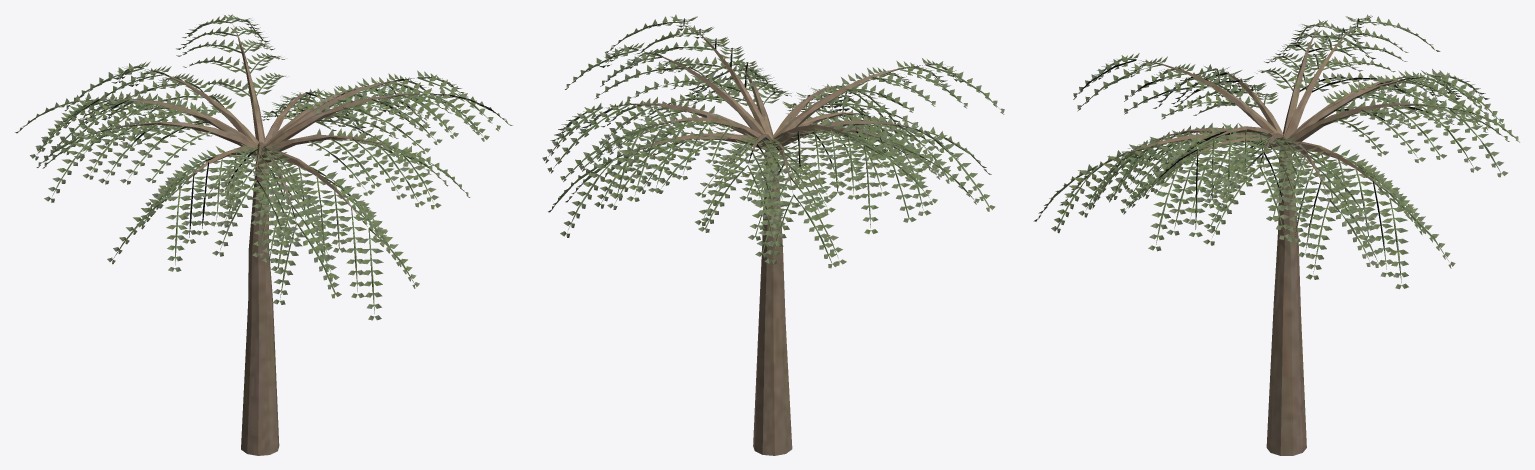
File: dicroidium.glb
The picture shows the model from 3 angles, left to right: view 1: azimuth 30°, elevation 25°; view 2: azimuth 150°, elevation 25°; view 3: azimuth 270°, elevation 25°; orthographic projection. The views are drawn at different scales.
Parts seen in each view (by area): view 1: dicroidium_medio; view 2: dicroidium_medio; view 3: dicroidium_medio.
Part boxes in pixels (x1,y1,x2,y2): dicroidium_medio: (15,14,512,455); dicroidium_medio: (542,14,1004,455); dicroidium_medio: (1033,14,1519,455).
Size of the model in its own units: 6.37 by 5.24 by 6.32.
1 material, 1 textured.
